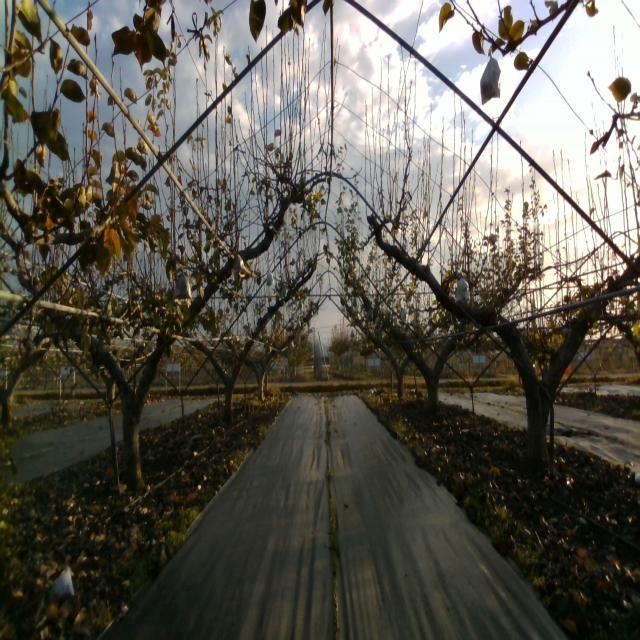pearbags: (480, 49, 500, 104), (171, 273, 192, 300), (454, 276, 471, 304), (232, 252, 244, 277)
